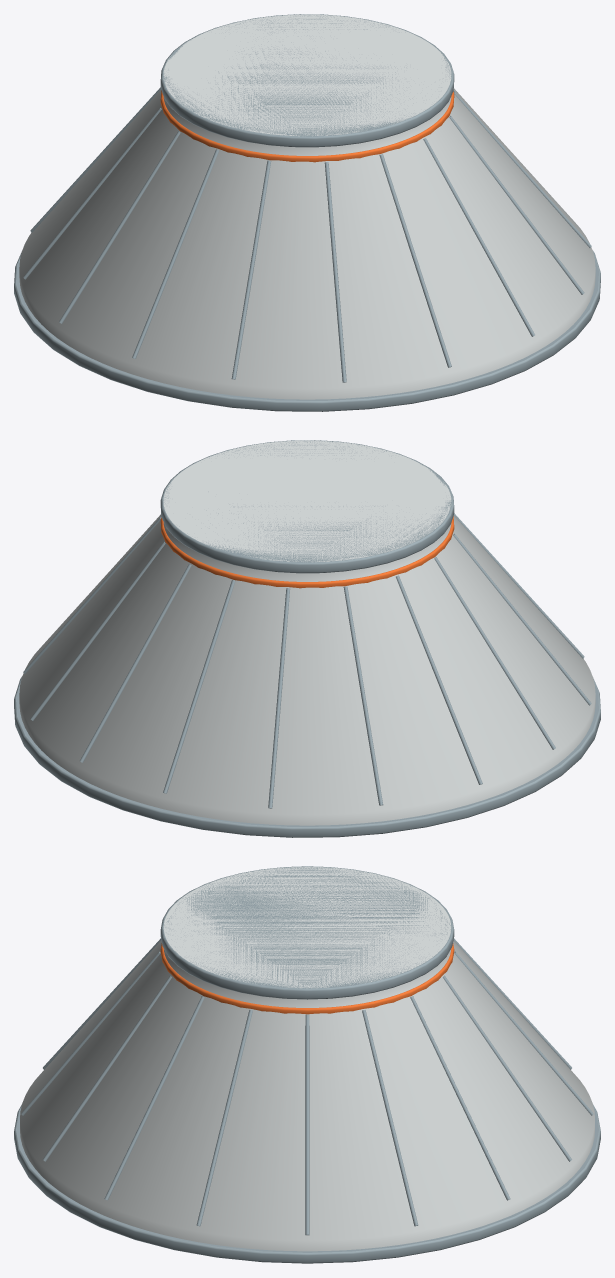
Rendered from adapterLarge.glb.
The picture shows the model from 3 angles, top to bottom: view 1: azimuth 30°, elevation 25°; view 2: azimuth 150°, elevation 25°; view 3: azimuth 270°, elevation 25°; orthographic projection.
Parts seen in each view (by area): view 1: Conical load bearing shell; view 2: Conical load bearing shell; view 3: Conical load bearing shell.
Boxes of the visible parts, x1,y1,x2,y2 form: Conical load bearing shell: (14, 14, 600, 411); Conical load bearing shell: (14, 440, 600, 837); Conical load bearing shell: (14, 866, 600, 1263).
Size of the model in its own units: 2.5 by 1 by 2.5.
